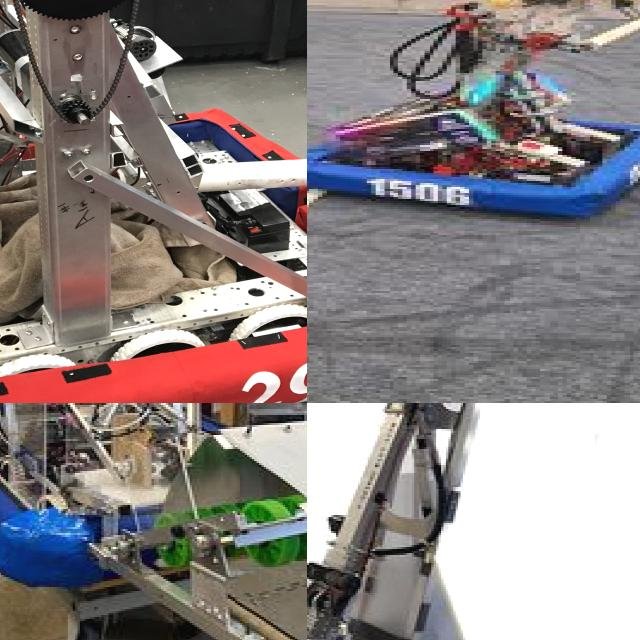FRC-Robots: (0, 0, 307, 403), (307, 0, 640, 226), (307, 403, 615, 640), (0, 403, 307, 640)
